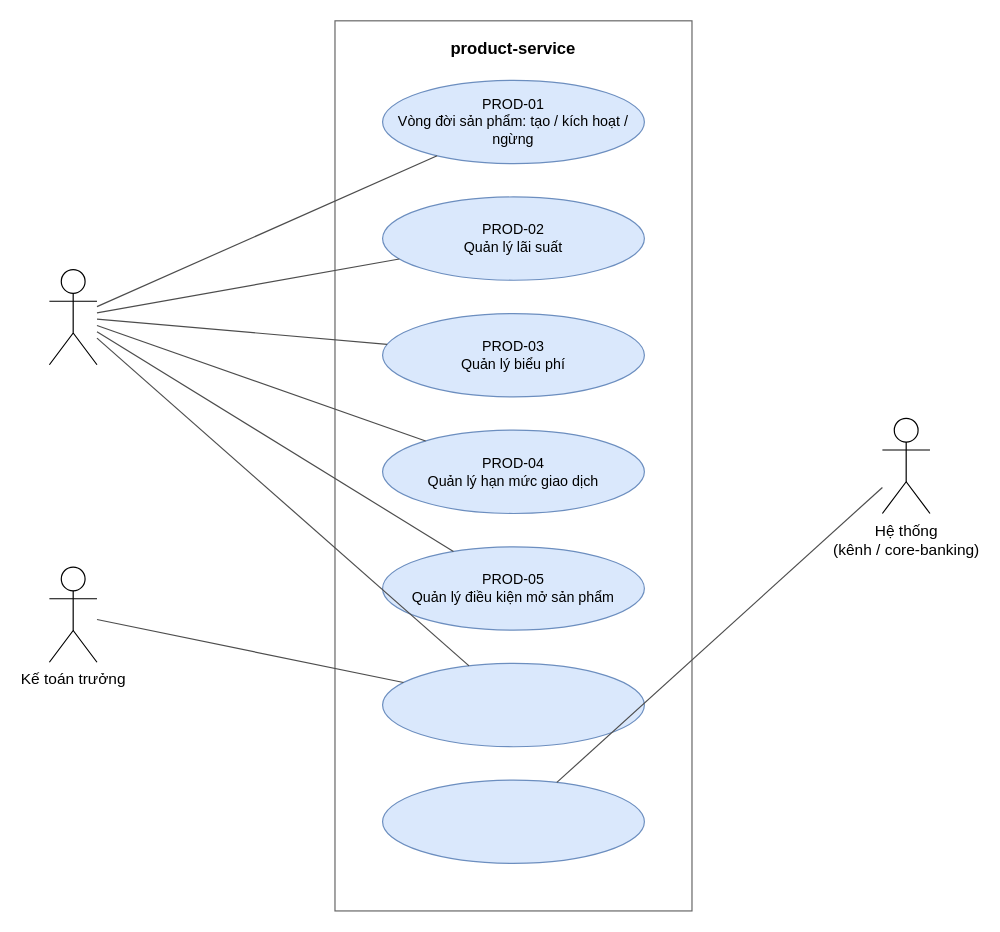
The diagram is 1000 pixels wide and 932 high, and some of its shapes have lost their labels. The centre of each missing label's shape, as x and y in pixels:
PROD-06 Quản lý ánh xạ GL: point (512, 704)
PROD-07 Cung cấp catalog cho kênh & service: point (512, 821)
Product Admin: point (72, 316)
